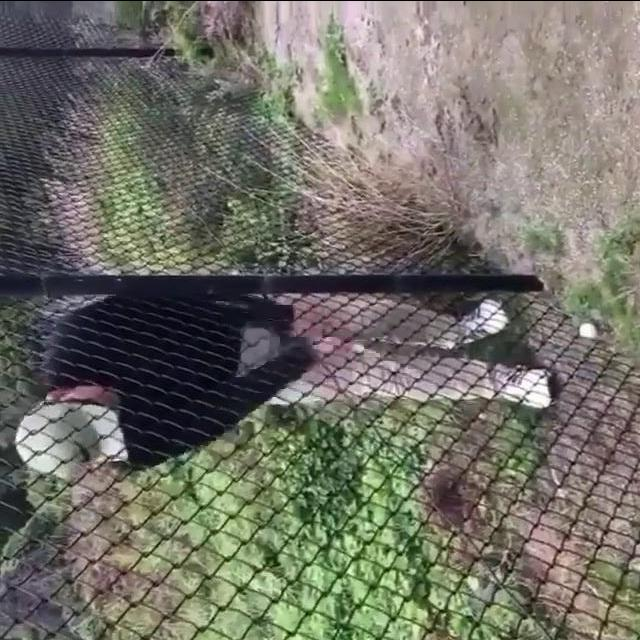golf ball: (578, 321, 597, 339)
